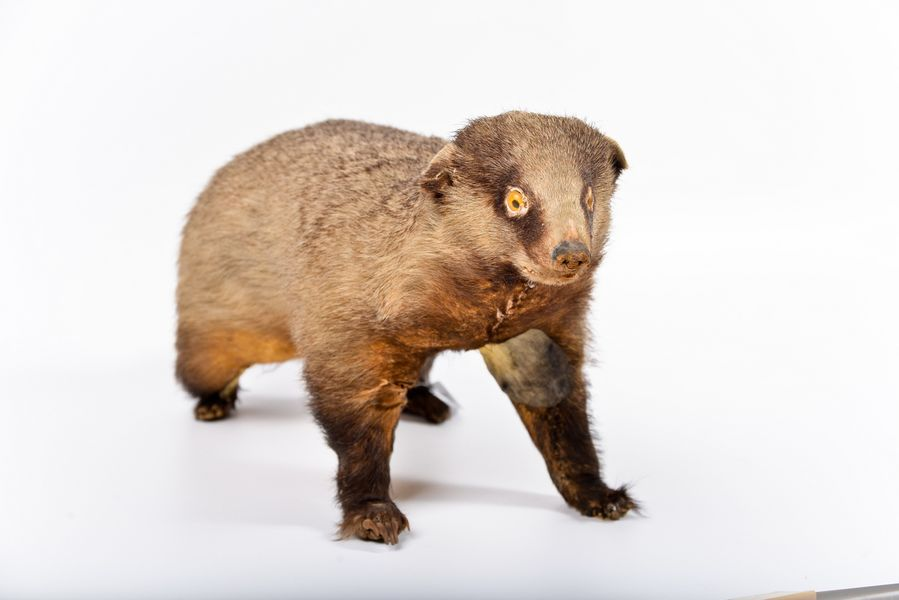badger: (175, 112, 633, 546)
